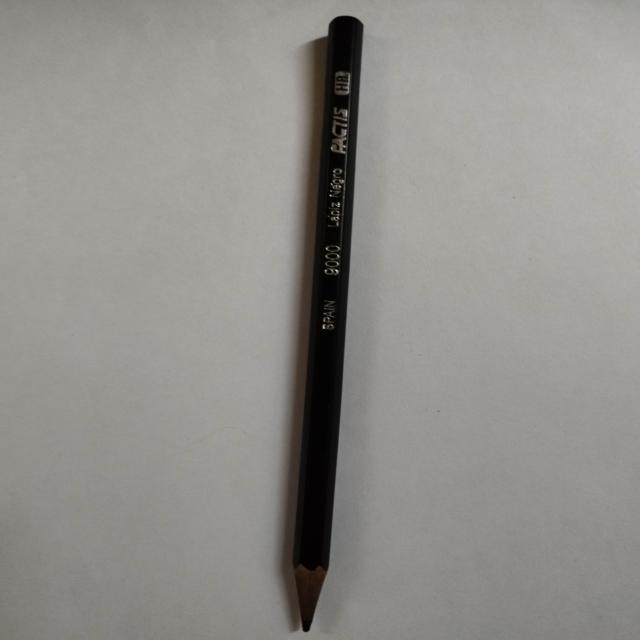pencil: (292, 15, 364, 632)
